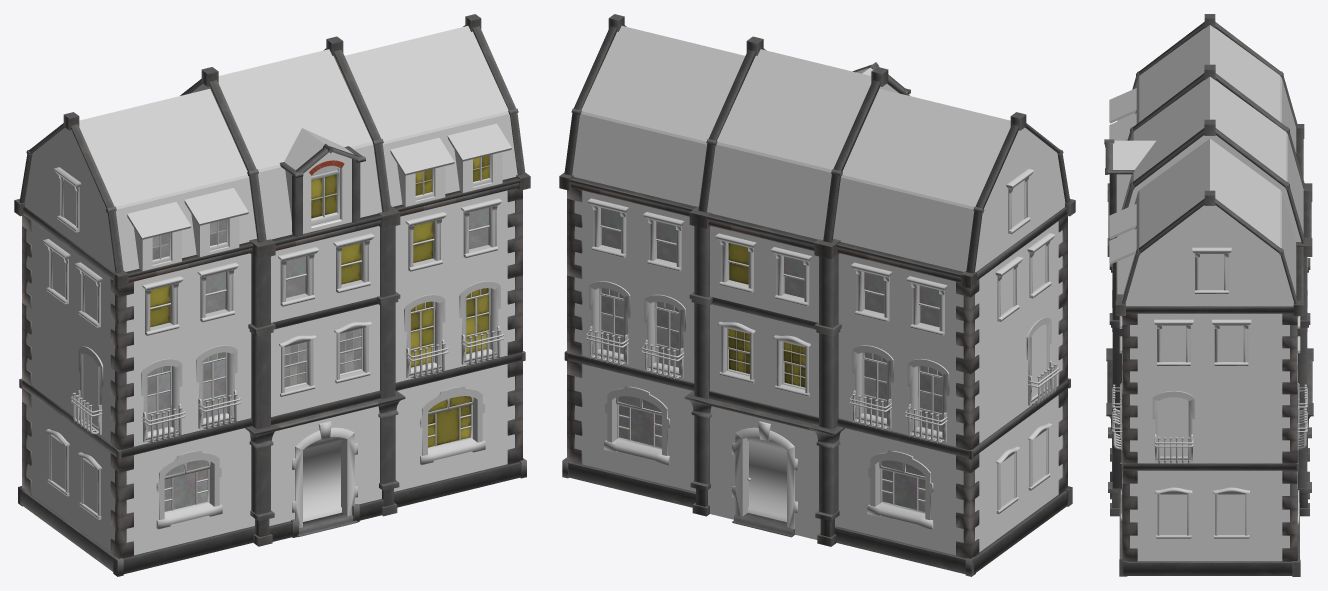
File: Building_13.fbx
3 renders of one model, left to right at view 1: azimuth 30°, elevation 25°; view 2: azimuth 150°, elevation 25°; view 3: azimuth 270°, elevation 25°, orthographic. The views are drawn at different scales.
Visible parts, largest first — view 1: Wall_01.011, Roof_01, Wall_03.012, Wall_03.014, Trim_01, Trim_02, Trim_04, Roof_02.008; view 2: Wall_02.010, Roof_02.008, Wall_03.012, Trim_04, Wall_03.014, Trim_03, Trim_01, Roof_01; view 3: Wall_04.013, Roof_01, Roof_02.008, Wall_04.008, Wall_02.010, Wall_01.011, Trim_02, Trim_03.
Part boxes in pixels (x1,y1,x2,y2): Wall_01.011: (113,190,526,576); Roof_01: (63,14,530,288); Wall_03.012: (20,128,124,571); Wall_03.014: (25,128,114,555); Trim_01: (110,279,133,558); Trim_02: (507,188,522,464); Trim_04: (22,215,31,494); Roof_02.008: (14,25,465,216); Wall_02.010: (562,190,975,576); Roof_02.008: (559,26,1018,288); Wall_03.012: (972,128,1068,573); Trim_04: (956,279,979,558); Wall_03.014: (975,129,1064,507); Trim_03: (567,188,582,464); Trim_01: (1058,215,1067,494); Roof_01: (608,14,1075,216); Wall_04.013: (1123,205,1295,575); Roof_01: (1104,14,1215,315); Roof_02.008: (1210,22,1312,315); Wall_04.008: (1121,236,1293,563); Wall_02.010: (1292,257,1313,576); Wall_01.011: (1106,262,1127,576); Trim_02: (1122,313,1137,561); Trim_03: (1282,313,1297,561).
Size of what is drawn, in the model's own units: 15.28 by 15 by 7.26.
